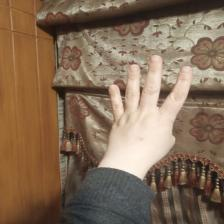four: (105, 55, 194, 173)
